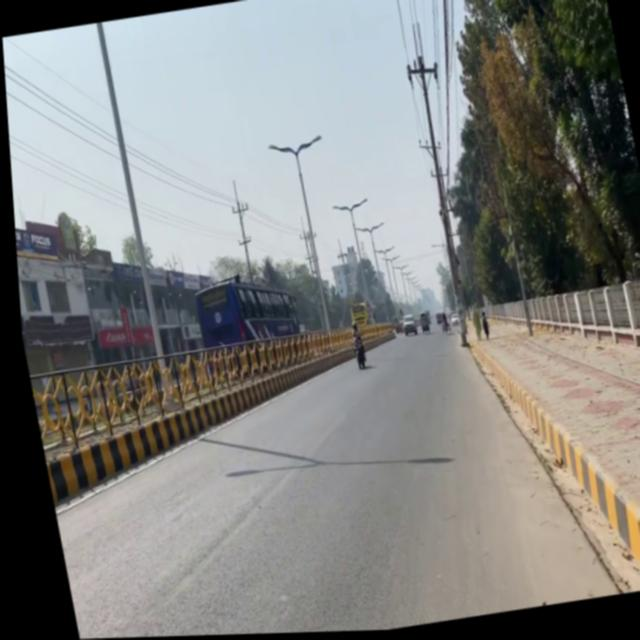Construction-barrier: (540, 412, 640, 603)
Fallen-tree: (434, 321, 445, 337)
Garbage-bin: (345, 333, 362, 371), (474, 314, 486, 342)
Light-pole: (91, 21, 164, 375)
Pole: (20, 321, 312, 498)
Pothole: (455, 289, 640, 611)
